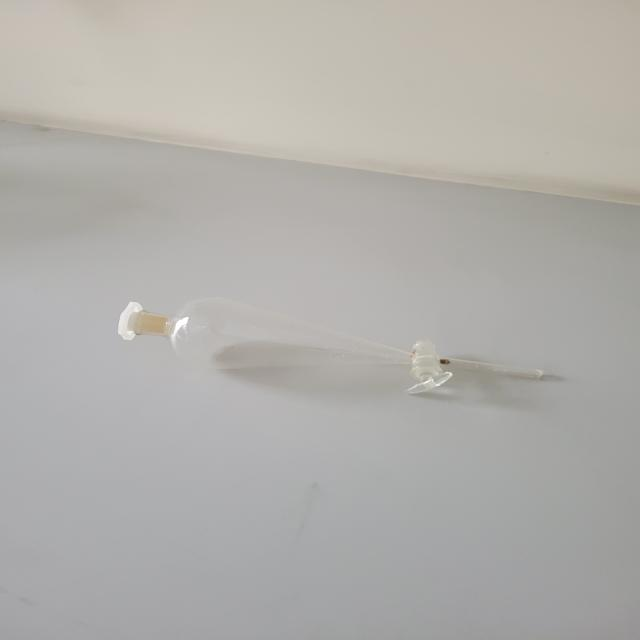Separating_Funnel: (74, 249, 594, 436)
